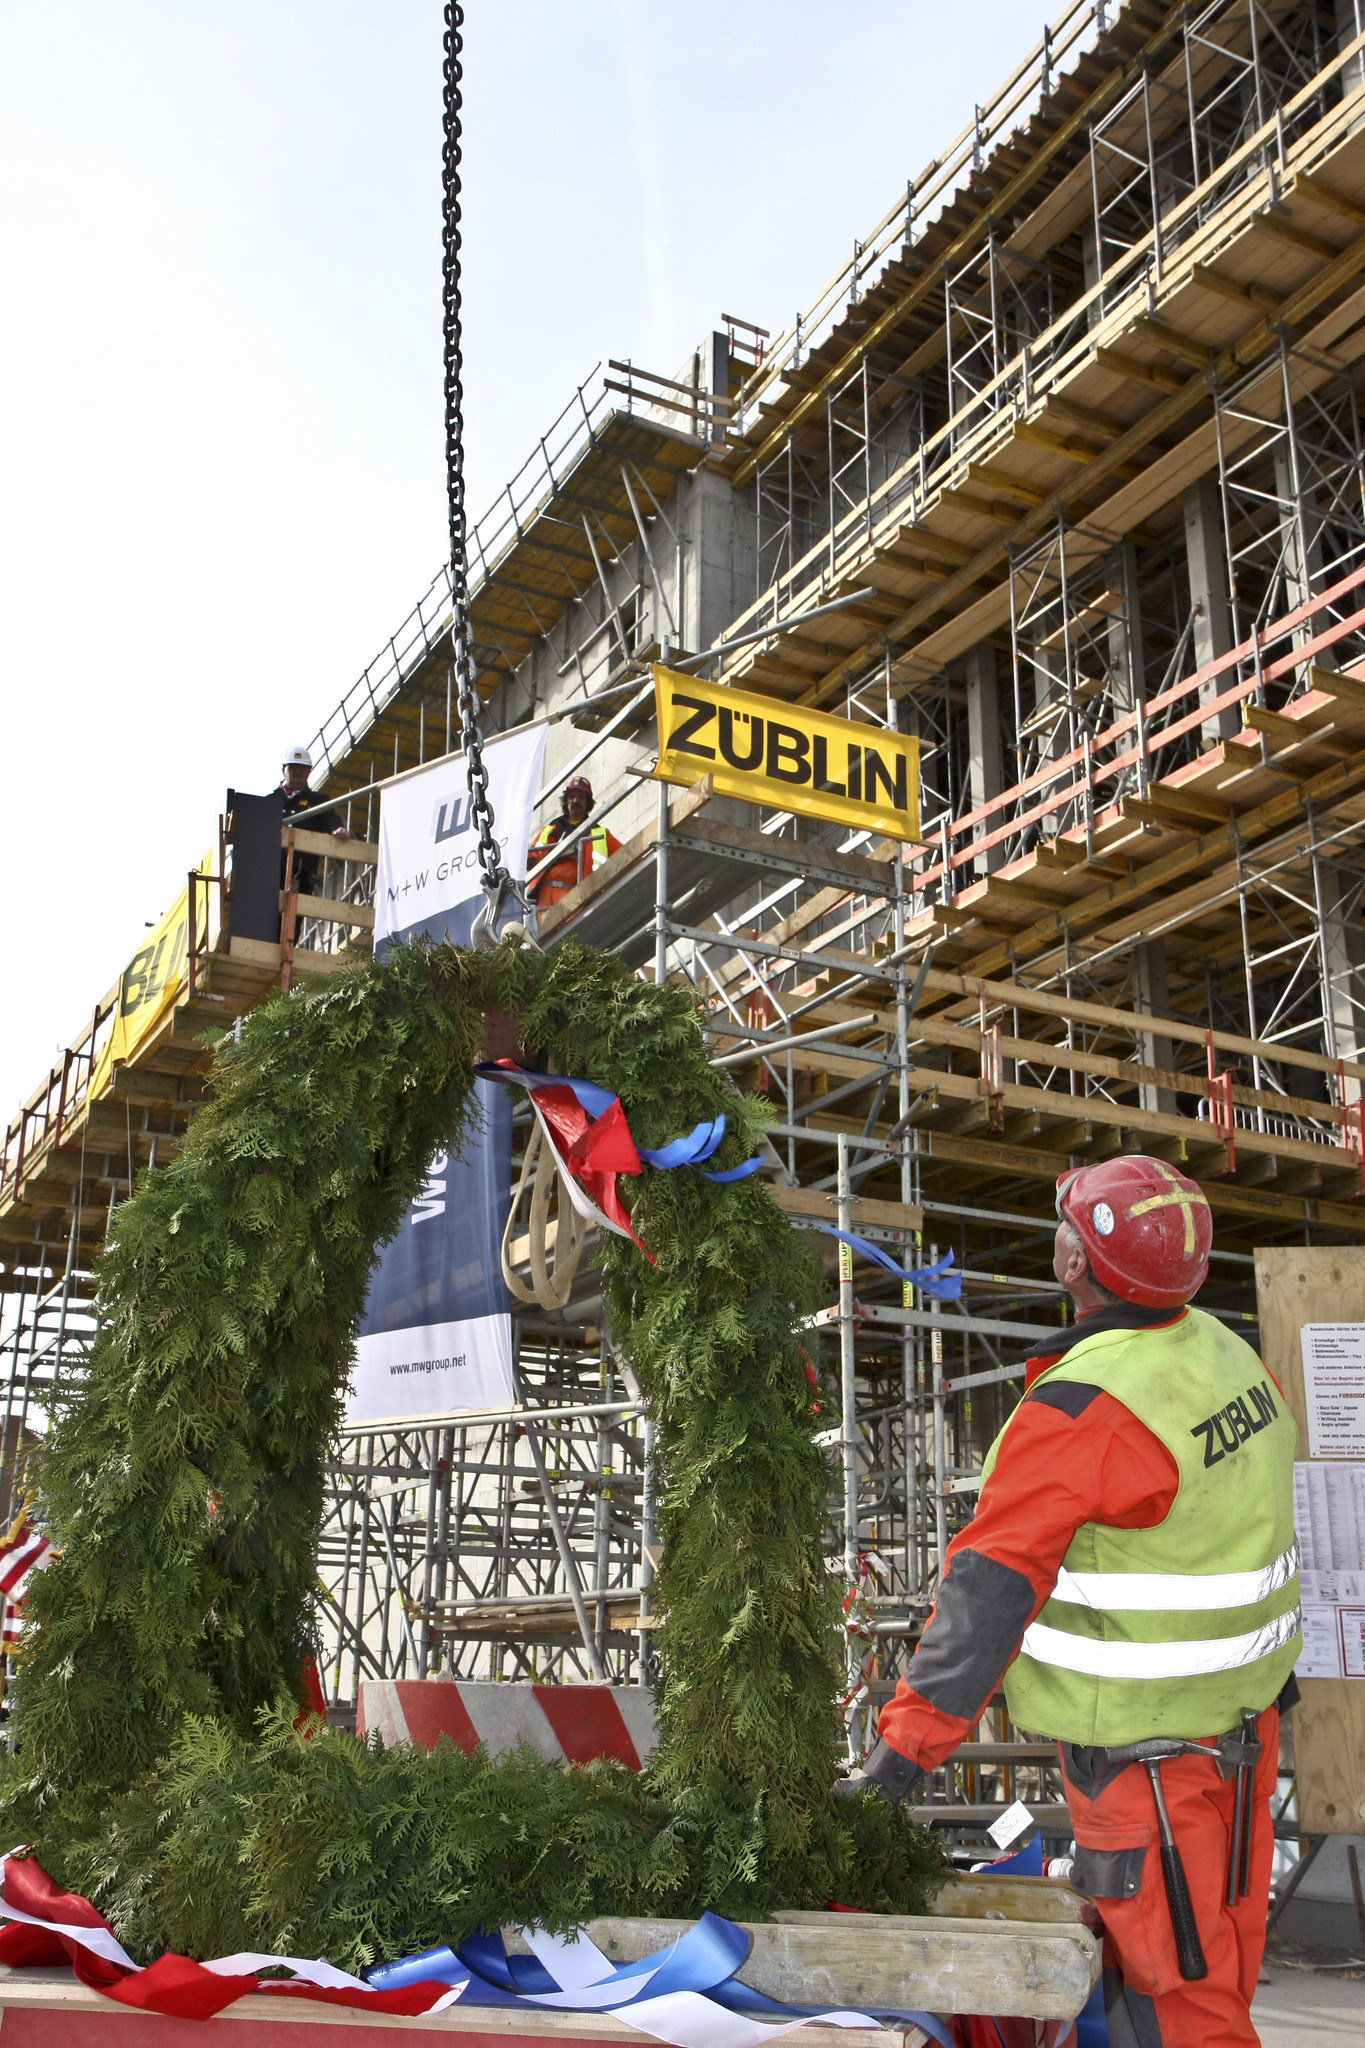Helmet: (1044, 1134, 1228, 1332), (561, 769, 596, 802)
Reflective vest: (983, 1313, 1328, 1754), (523, 819, 620, 908)
